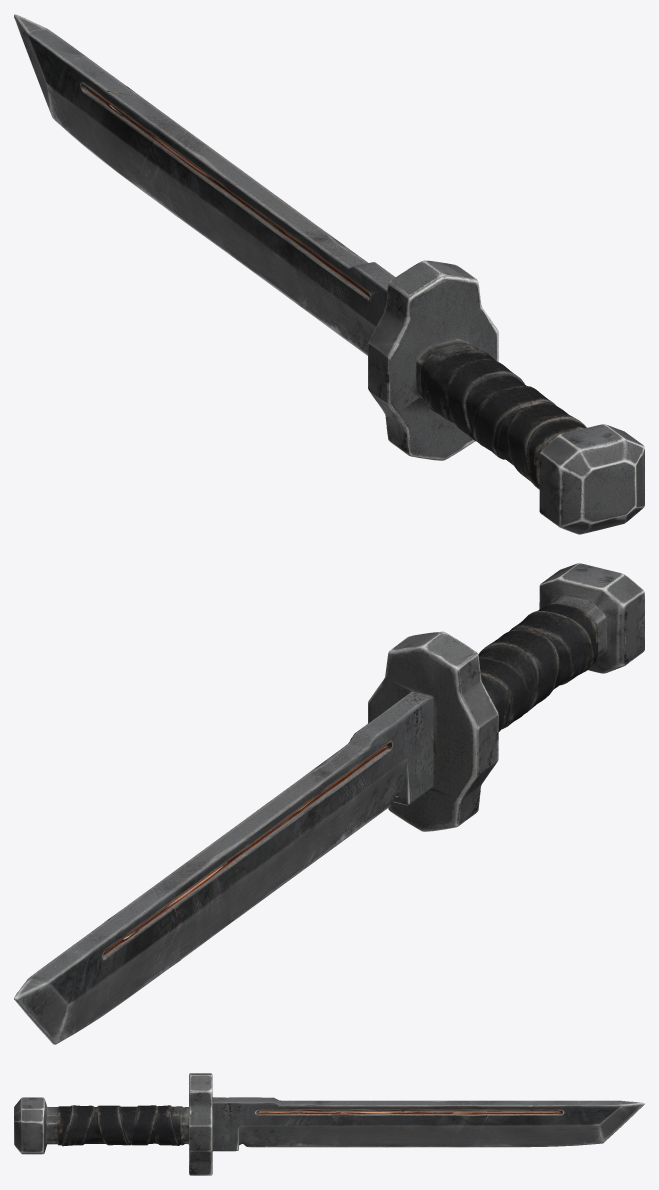
File: sword.glb
3 views of the same model, one above another, from view 1: azimuth 30°, elevation 25°; view 2: azimuth 150°, elevation 25°; view 3: azimuth 270°, elevation 25° (orthographic). The views are drawn at different scales.
Visible parts, largest first — view 1: SwordBody; view 2: SwordBody; view 3: SwordBody.
Boxes of the visible parts, box(x1,y1,x2,y2) form: SwordBody: box(14, 14, 644, 534); SwordBody: box(14, 563, 644, 1044); SwordBody: box(14, 1073, 644, 1175).
Bounding box in the file's own units: 0.1132 × 0.1818 × 1.05.
1 material, 1 textured.
